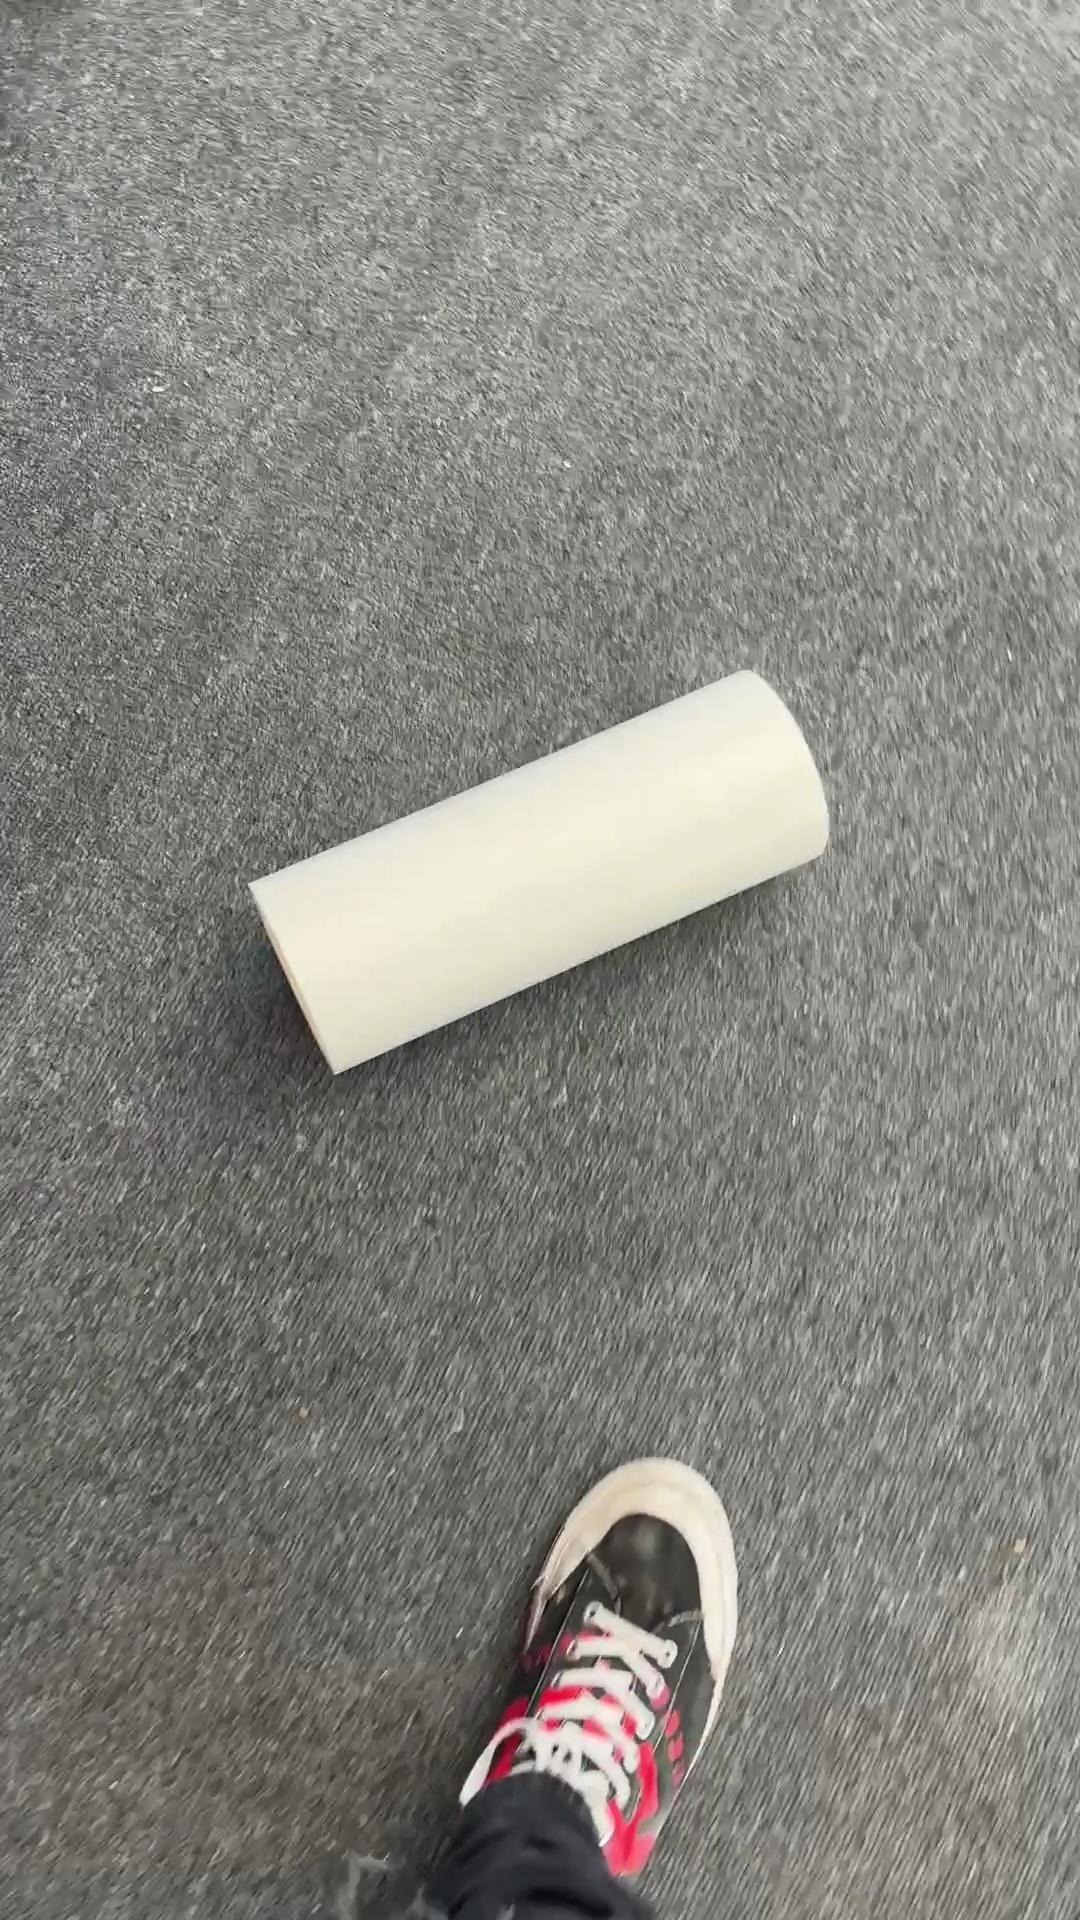CORAL: (245, 665, 831, 1077)
